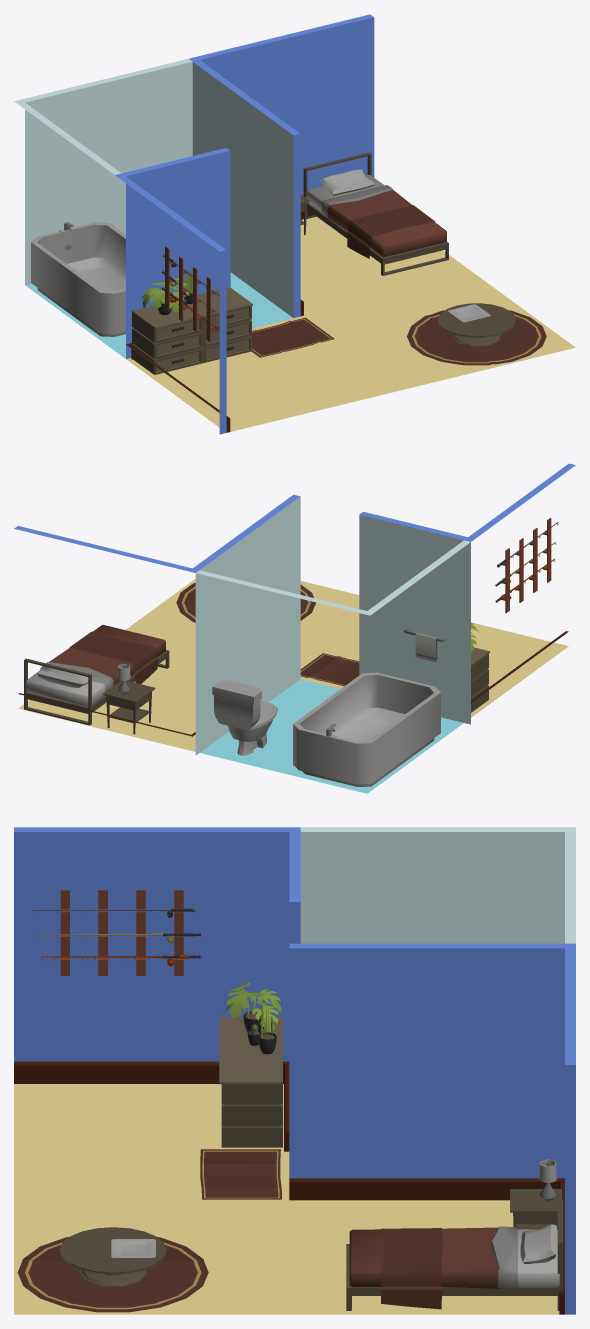
The model's file is room.glb.
The picture shows the model from 3 angles, top to bottom: view 1: azimuth 30°, elevation 25°; view 2: azimuth 150°, elevation 25°; view 3: azimuth 270°, elevation 25°; orthographic projection. The views are drawn at different scales.
Visible parts, largest first — view 1: toilet wall.001, wall.001, floor, Bed, Bathtub, Drawer_5, Carpet_Round, Table_RoundSmall, Carpet_1, toilet floor, fishingRod hanger.001, Houseplant_7; view 2: toilet wall.001, floor, Bathtub, Bed, toilet floor, wall.001, Toilet, NightStand_2, fishingRod hanger.001, Carpet_1, Drawer_5, Carpet_Round (+1 smaller); view 3: wall.001, floor, toilet wall.001, Bed, Carpet_Round, Drawer_5, Carpet_1, Table_RoundSmall, fishingRod hanger.001, NightStand_2, Houseplant_7, Plate (+1 smaller).
Boxes of the visible parts, x1,y1,x2,y2 form: toilet wall.001: (14, 58, 293, 317); wall.001: (115, 14, 374, 434); floor: (126, 216, 575, 431); Bed: (303, 152, 448, 275); Bathtub: (31, 222, 125, 336); Drawer_5: (132, 287, 252, 374); Carpet_Round: (407, 310, 546, 365); Table_RoundSmall: (438, 303, 515, 346); Carpet_1: (251, 317, 334, 357); toilet floor: (25, 272, 292, 358); fishingRod hanger.001: (165, 246, 215, 341); Houseplant_7: (141, 277, 189, 315); toilet wall.001: (195, 496, 470, 755); floor: (18, 579, 568, 750); Bathtub: (293, 672, 440, 786); Bed: (24, 624, 169, 725); toilet floor: (193, 679, 463, 793); wall.001: (14, 463, 575, 736); Toilet: (212, 680, 277, 755); NightStand_2: (103, 680, 155, 734); fishingRod hanger.001: (501, 518, 551, 613); Carpet_1: (300, 653, 359, 686); Drawer_5: (471, 647, 489, 712); Carpet_Round: (176, 583, 315, 622); wall.001: (14, 827, 575, 1314); floor: (14, 1084, 559, 1314); toilet wall.001: (300, 827, 575, 943); Bed: (346, 1199, 563, 1310); Carpet_Round: (17, 1237, 208, 1312); Drawer_5: (219, 1017, 282, 1147); Carpet_1: (200, 1149, 281, 1199); Table_RoundSmall: (59, 1227, 166, 1286); fishingRod hanger.001: (60, 890, 183, 975); NightStand_2: (510, 1189, 562, 1229); Houseplant_7: (223, 982, 281, 1032); Plate: (111, 1239, 155, 1257).
Bounding box in the file's own units: 10.2 × 5.01 × 10.2.
